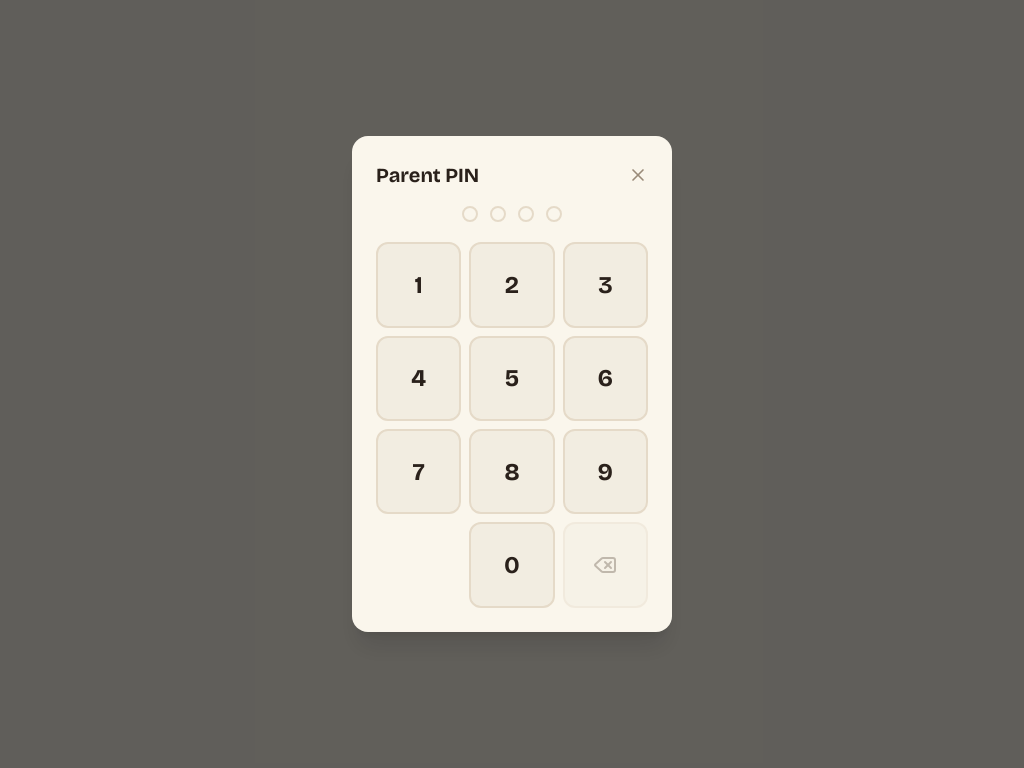
Test: PinPad › shows a rate-limit message on 429
The width and height of the screenshot is (1024, 768).
Click the button "0" at (512, 565), box [469,522,555,608]
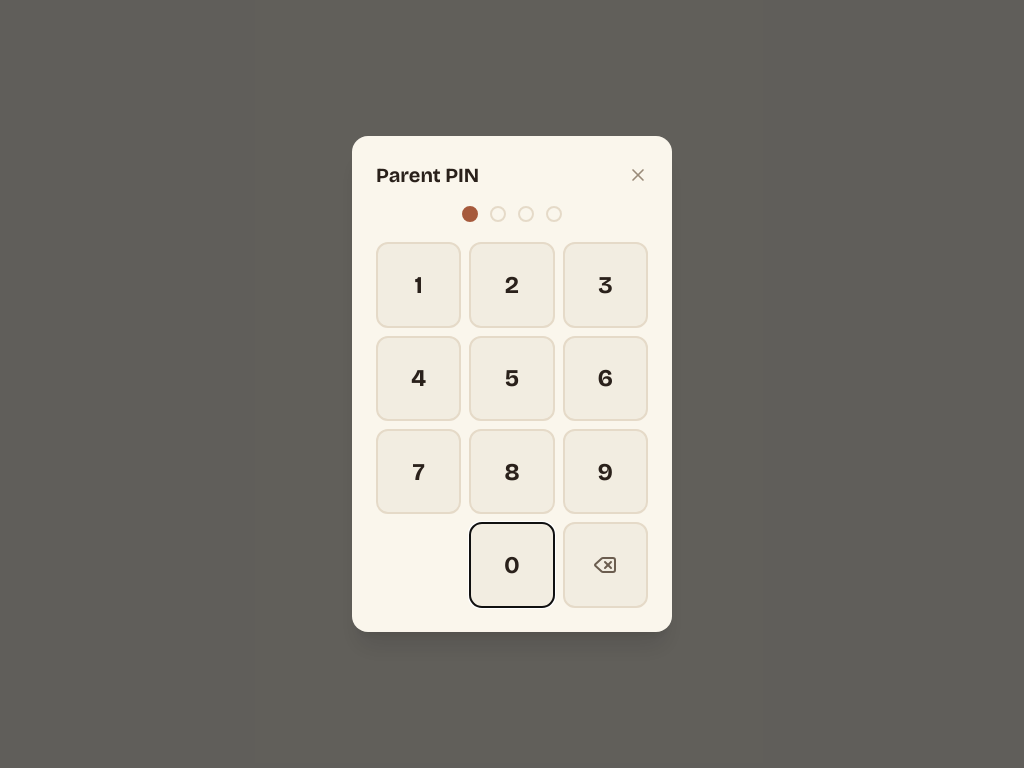
Click the button "0" at (512, 565), box [469,522,555,608]
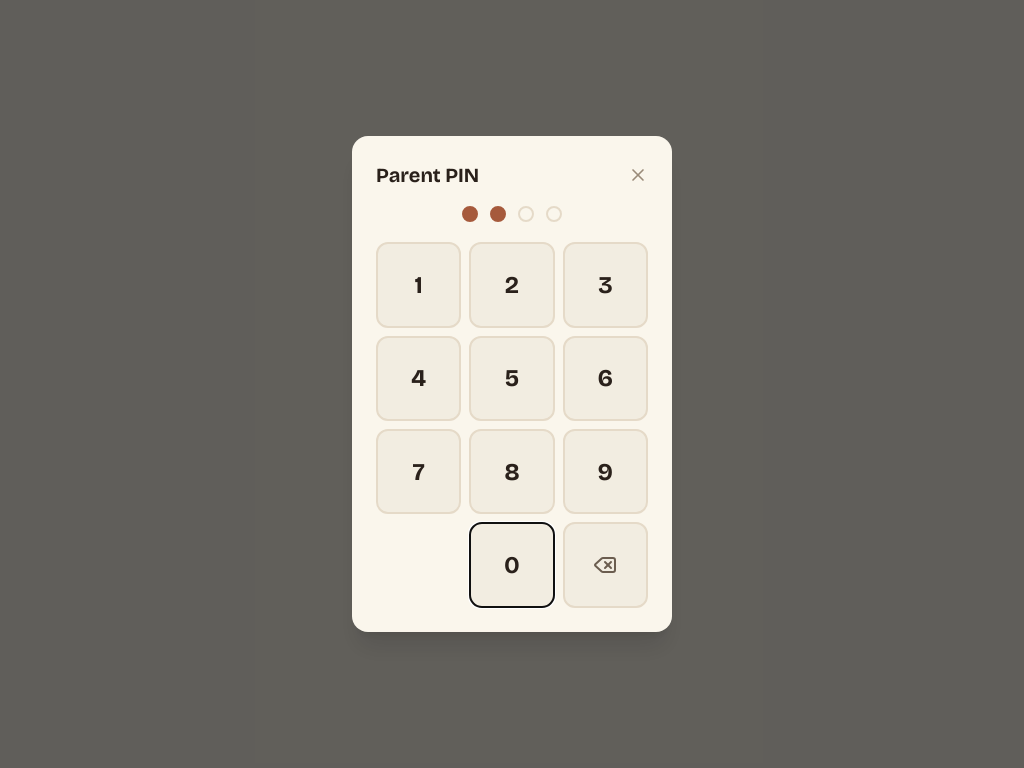
Click the button "0" at (512, 565), box [469,522,555,608]
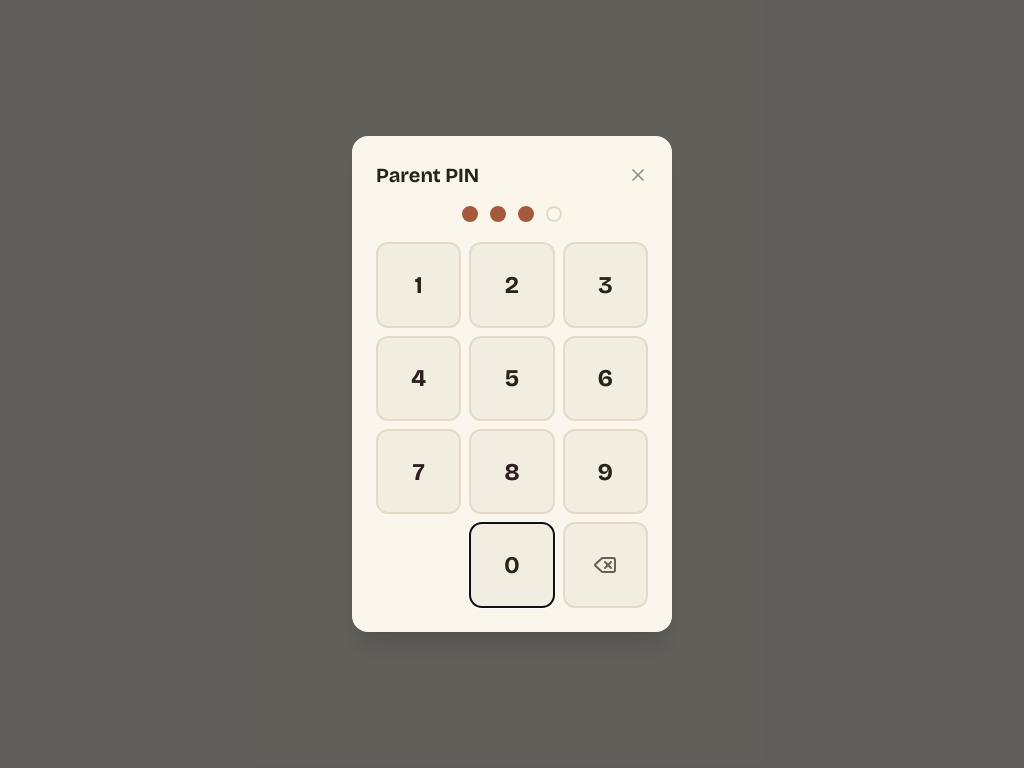
Click the button "0" at (512, 565), box [469,522,555,608]
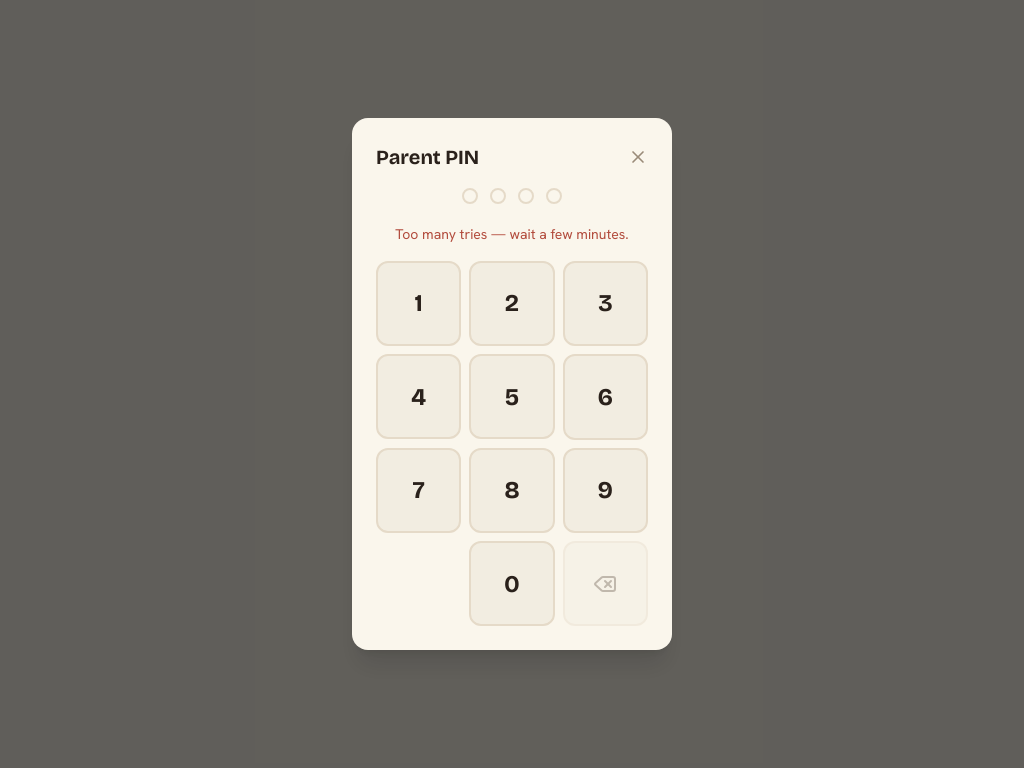
Expected: the text "Too many tries — wait a few minutes." is shown, [376,224,648,245]
